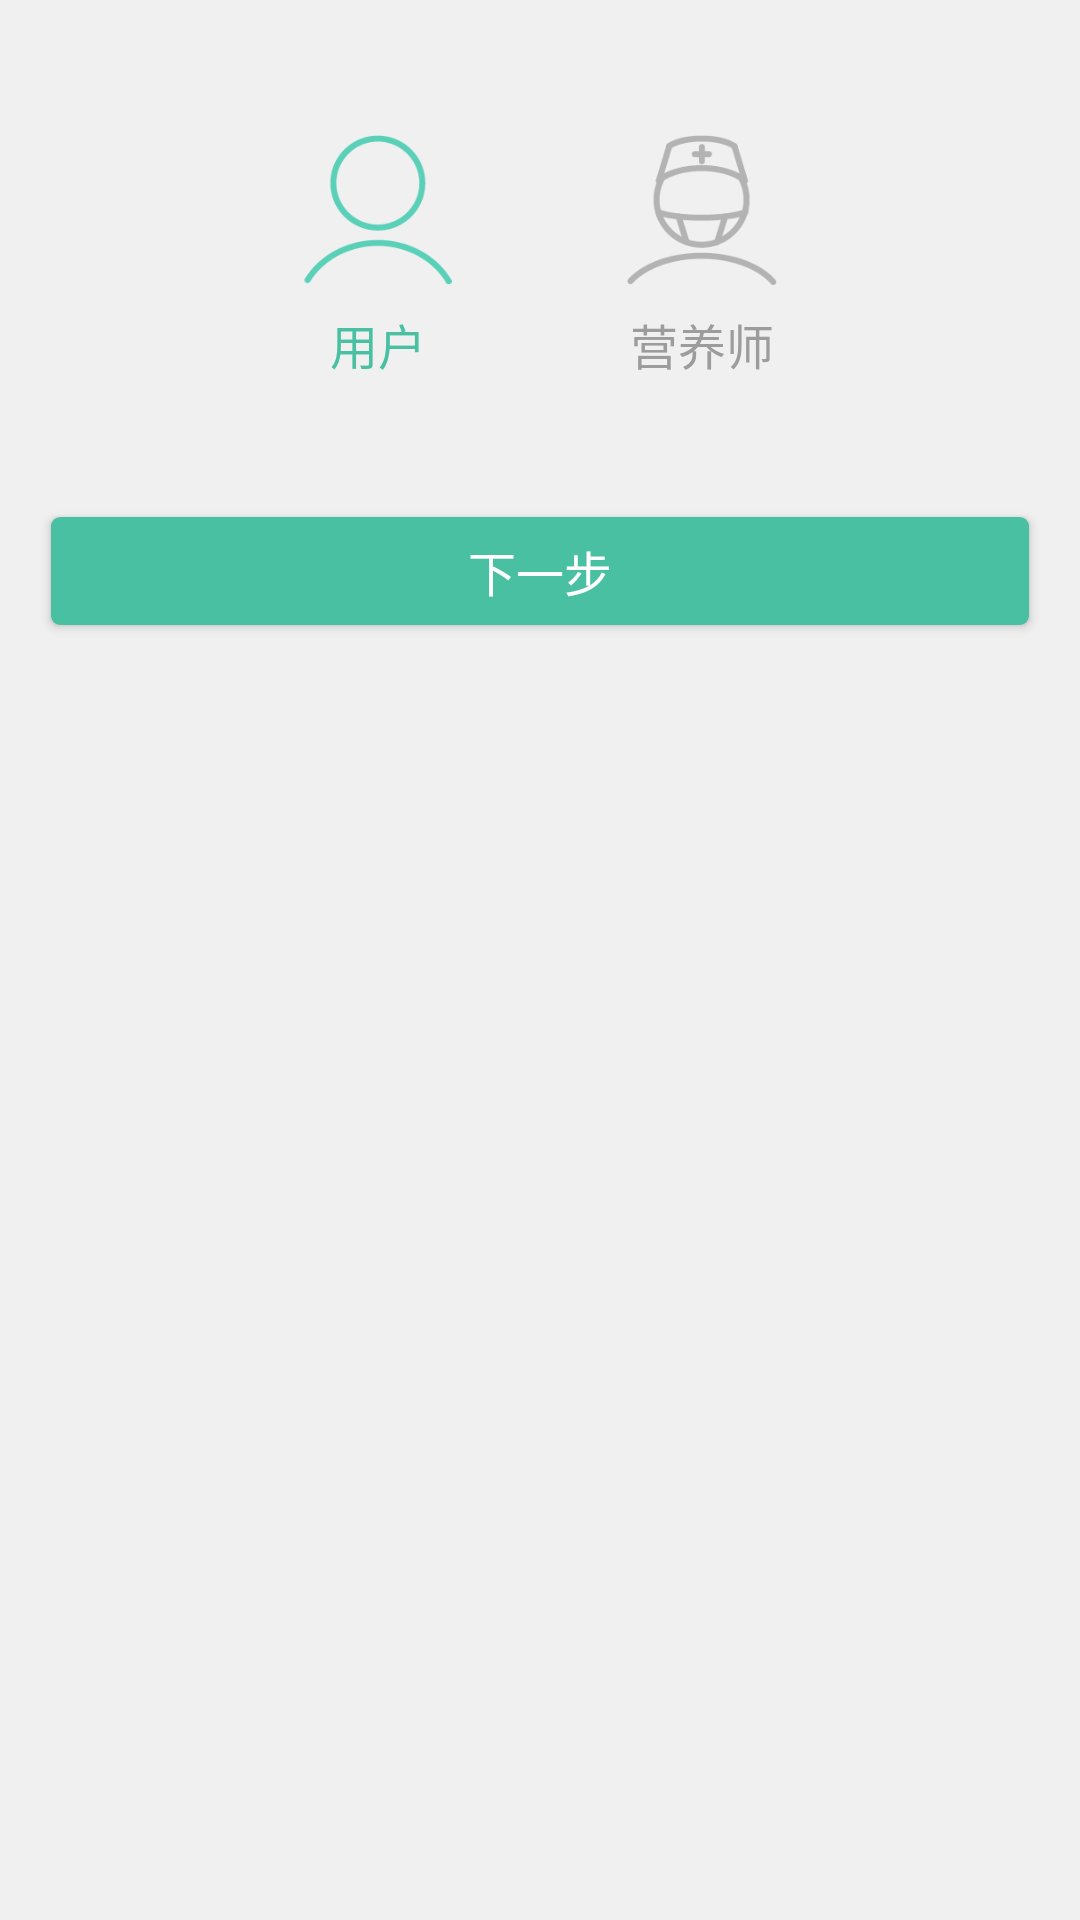

Screen size 1080 x 1920. Icon name, then its box in pixels as (x1, y1, x2, y2):
role: (304, 135, 452, 284)
